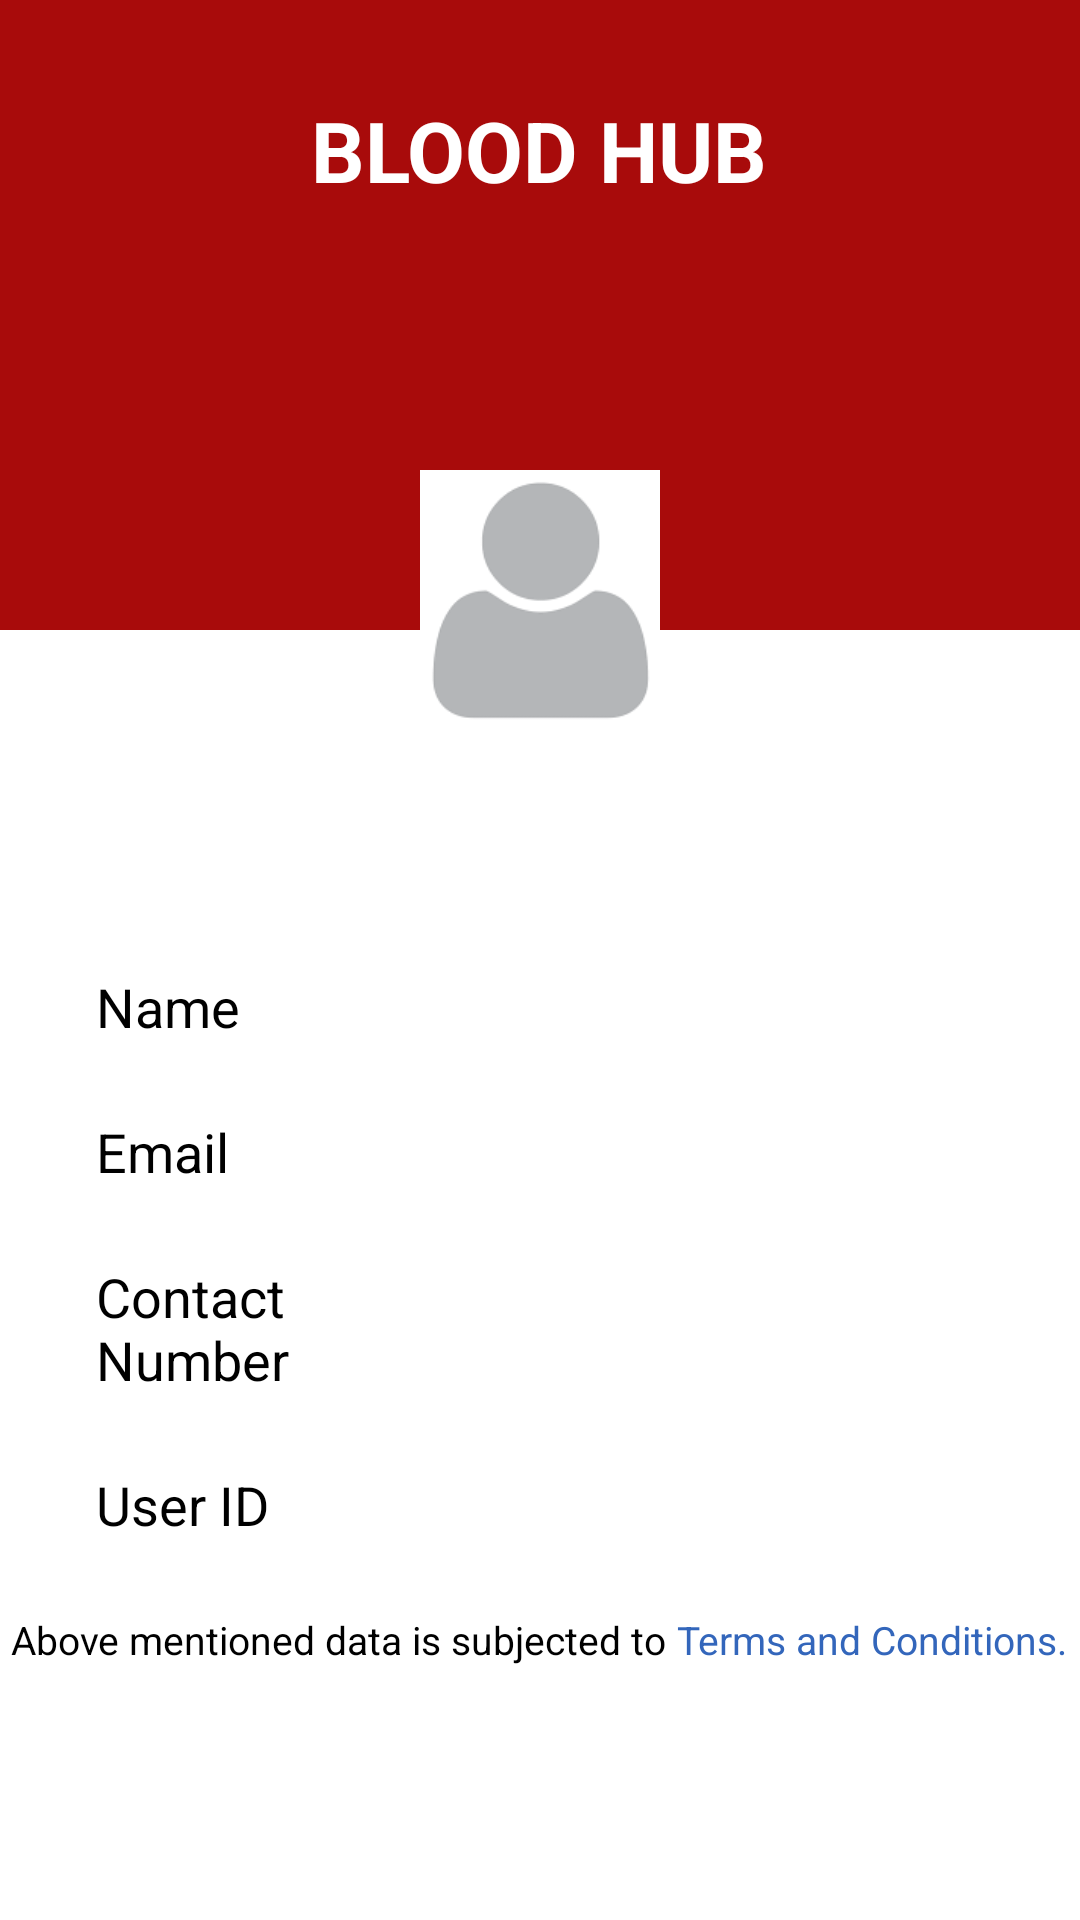

Icon click points for this 1080x1920 phone screenshot, format [x,y]:
user: [540,601]
